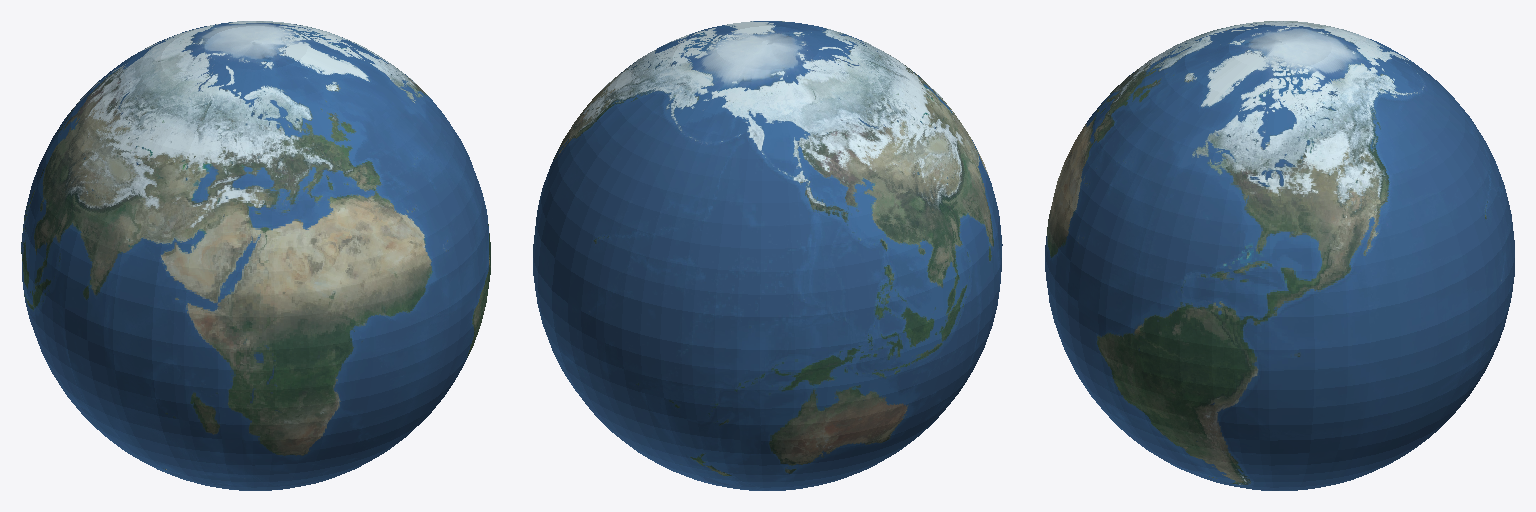
3 views of the same model, side by side, from view 1: azimuth 30°, elevation 25°; view 2: azimuth 150°, elevation 25°; view 3: azimuth 270°, elevation 25° (orthographic).
Parts seen in each view (by area): view 1: earth; view 2: earth; view 3: earth.
Boxes of the visible parts, <box> form: earth: <box>21,21,490,490</box>; earth: <box>533,21,1002,490</box>; earth: <box>1045,21,1514,490</box>.
Size of the model in its own units: 2 by 2 by 2.
1 materials, 1 textured.